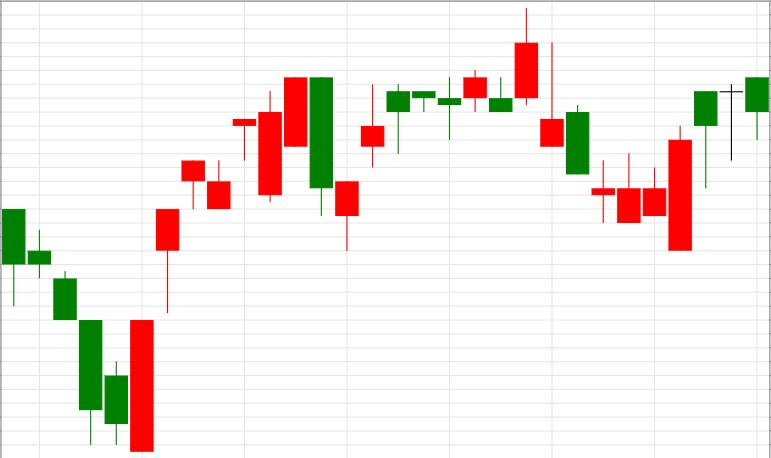bearish_engulfing_fall: (131, 78, 333, 452)
bullish_engulfing_rise: (2, 210, 153, 452)
hanging_man_fall: (592, 92, 717, 251)
